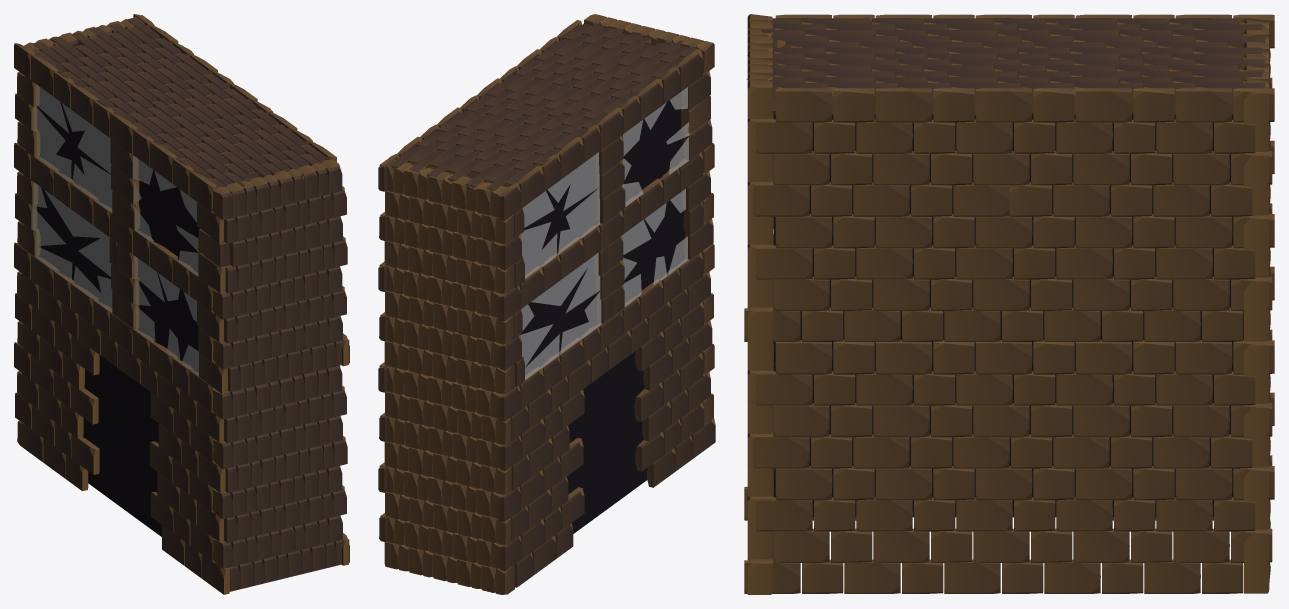
File: house.fbx
3 views of the same model, side by side, from view 1: azimuth 30°, elevation 25°; view 2: azimuth 150°, elevation 25°; view 3: azimuth 270°, elevation 25° (orthographic). The views are drawn at different scales.
Visible parts, largest first — view 1: Cube.003; view 2: Cube.003; view 3: Cube.003.
Boxes of the visible parts, left/top/right/bottom form: Cube.003: left=14, top=14, right=349, bottom=594; Cube.003: left=378, top=14, right=715, bottom=594; Cube.003: left=744, top=14, right=1274, bottom=594.
Size of the model in its own units: 660 by 1980 by 1885.
